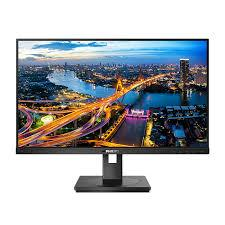monitor: (8, 33, 214, 196)
